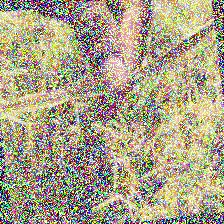Leaf_Blast: (0, 30, 213, 120)
